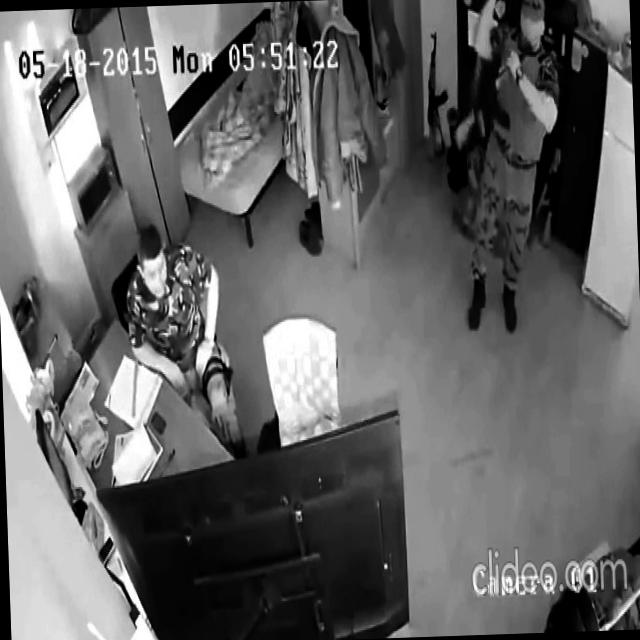gun: (452, 39, 538, 152), (422, 29, 451, 160)
person: (122, 220, 245, 462)
person with a gun: (448, 0, 570, 338)
